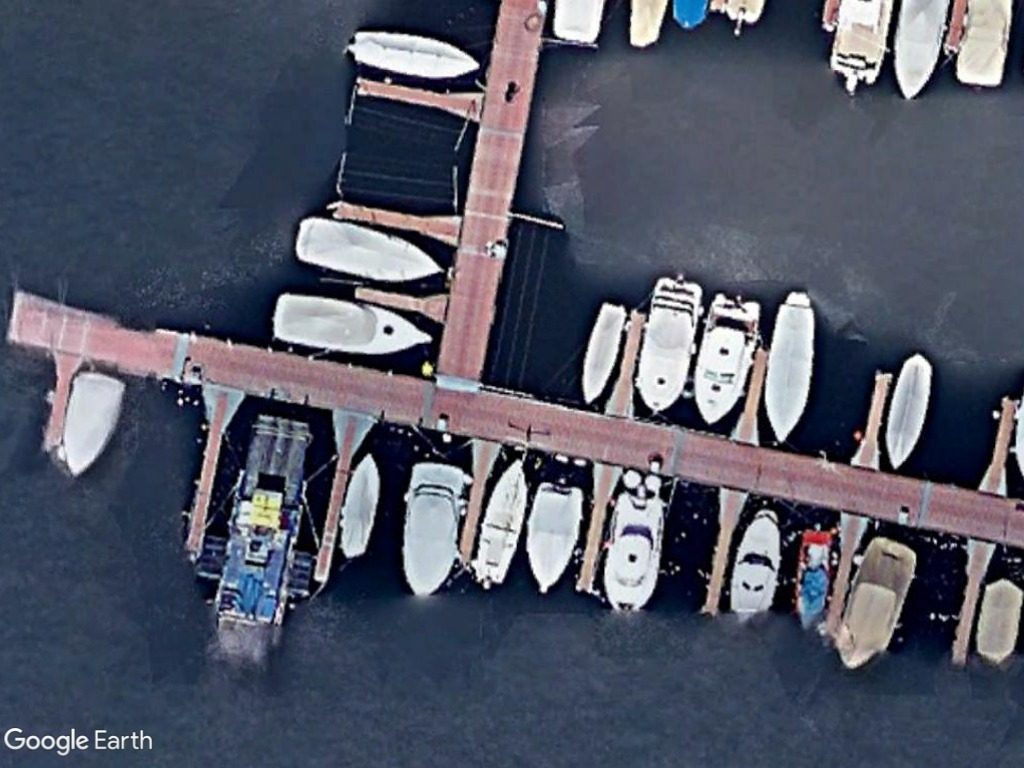boat: (832, 539, 923, 675), (263, 287, 436, 357), (287, 213, 446, 286), (690, 288, 773, 426), (757, 286, 825, 449), (397, 457, 471, 606), (594, 484, 670, 623), (634, 270, 705, 417), (471, 454, 534, 594), (343, 22, 483, 84), (520, 477, 586, 602), (54, 370, 127, 481), (726, 509, 788, 626), (879, 347, 936, 473), (569, 293, 630, 404), (334, 446, 386, 567), (790, 527, 840, 639), (972, 573, 1024, 672)
